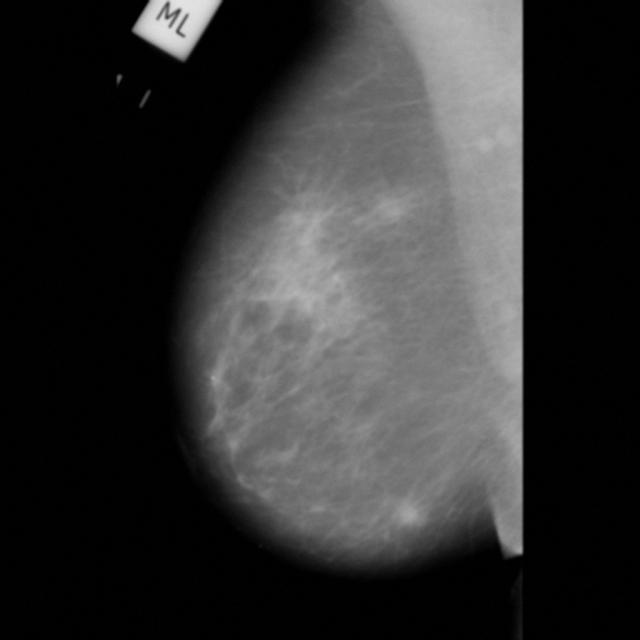SPIC: (399, 504, 421, 526)
